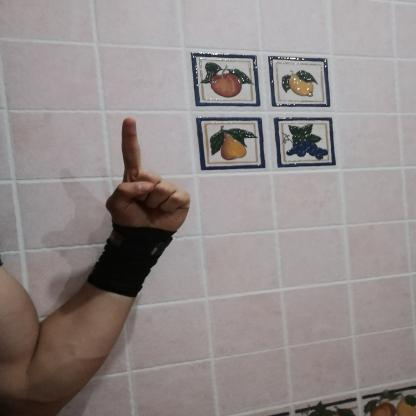BAA: (95, 108, 200, 245)
